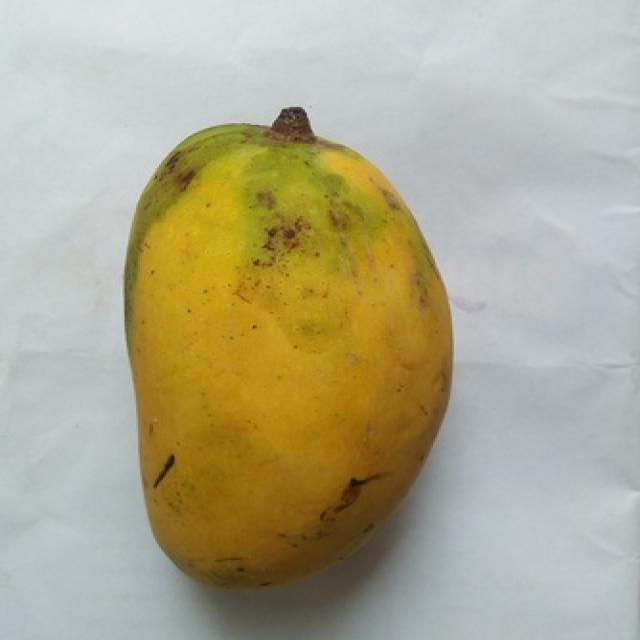Mango: (125, 107, 450, 586)
